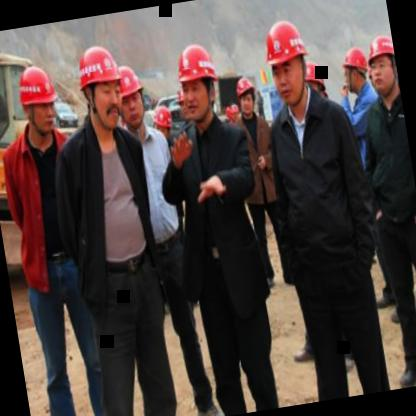helmet: (258, 13, 318, 106), (70, 40, 128, 132), (170, 35, 228, 126), (12, 62, 63, 140), (360, 26, 401, 100), (110, 60, 150, 130), (338, 42, 372, 96), (301, 58, 332, 110), (230, 68, 260, 118), (150, 98, 178, 150)
